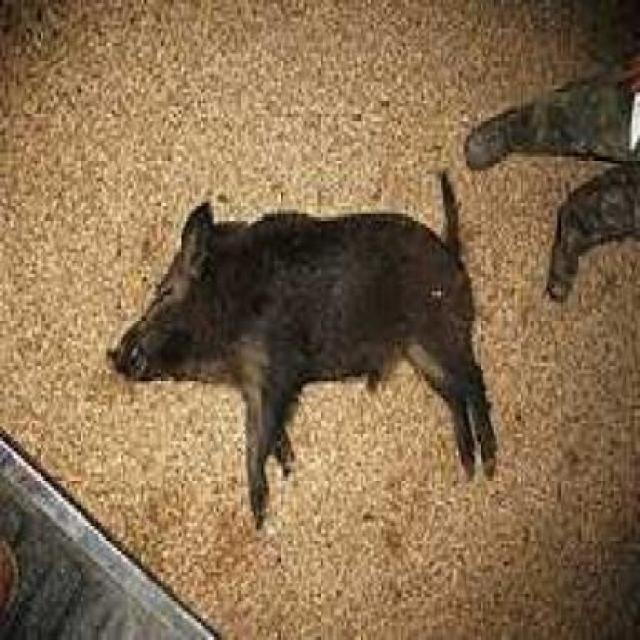pig: (88, 186, 555, 529)
